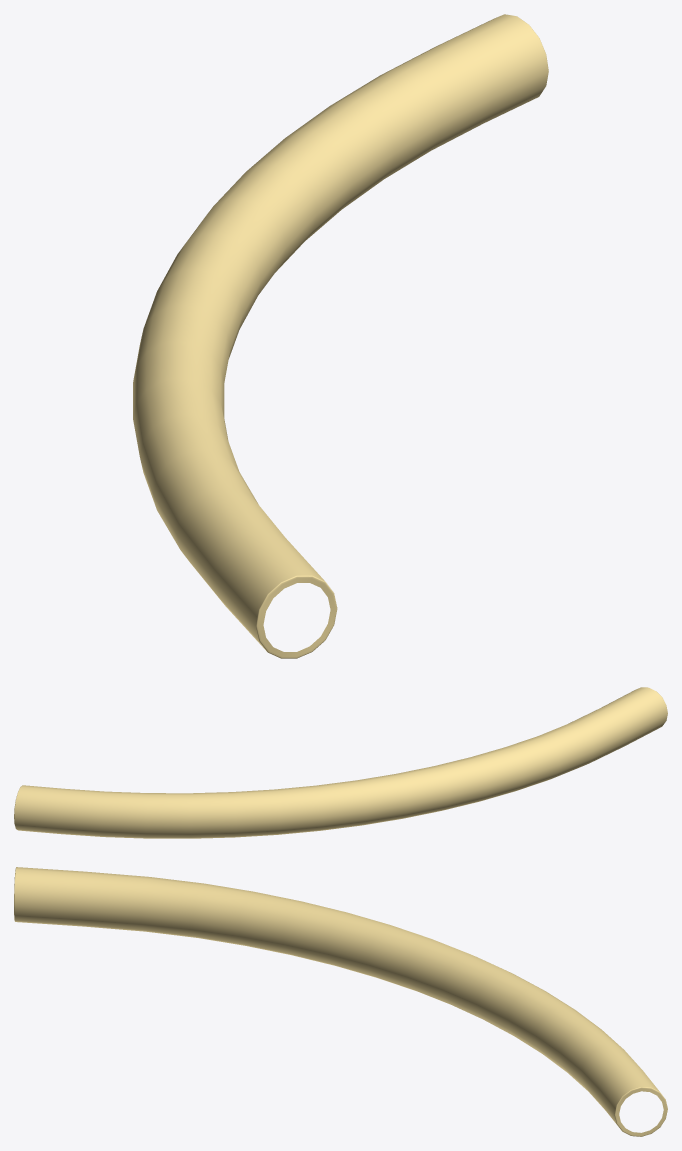
Rendered from BlissBar_Smooth.glb.
3 renders of one model, top to bottom at view 1: azimuth 30°, elevation 25°; view 2: azimuth 150°, elevation 25°; view 3: azimuth 270°, elevation 25°, orthographic. The views are drawn at different scales.
Visible parts, largest first — view 1: Bliss_Bar_Smooth; view 2: Bliss_Bar_Smooth; view 3: Bliss_Bar_Smooth.
Boxes of the visible parts, x1=… form: Bliss_Bar_Smooth: x1=133, y1=14, x2=548, y2=658; Bliss_Bar_Smooth: x1=14, y1=687, x2=667, y2=838; Bliss_Bar_Smooth: x1=14, y1=867, x2=667, y2=1136.
Size of the model in its own units: 0.0276 by 0.00278 by 0.0329.
